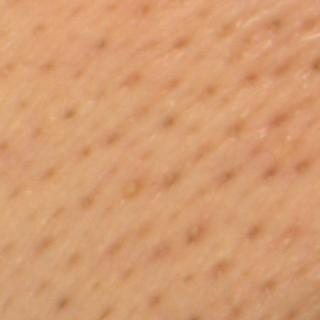Pores: (268, 107, 294, 135), (247, 138, 270, 162), (199, 80, 224, 102), (268, 59, 291, 82), (160, 169, 184, 191), (209, 256, 230, 281), (92, 83, 112, 108), (122, 69, 146, 89), (227, 45, 251, 65), (187, 222, 207, 246), (279, 223, 298, 248), (298, 15, 320, 36), (138, 143, 159, 165), (191, 144, 213, 165), (223, 121, 246, 141), (108, 236, 128, 259), (54, 292, 74, 315), (47, 203, 71, 222), (247, 221, 266, 245), (77, 192, 98, 213), (29, 17, 49, 39), (7, 183, 29, 203), (266, 16, 289, 35), (133, 2, 157, 20), (219, 18, 237, 42), (152, 240, 170, 264), (195, 3, 215, 24), (36, 235, 56, 256), (215, 165, 236, 185), (66, 249, 86, 270), (139, 35, 161, 54), (103, 128, 125, 147), (120, 181, 142, 200), (78, 142, 96, 165), (185, 119, 208, 137), (33, 278, 56, 296), (260, 164, 280, 184), (39, 56, 60, 75), (165, 73, 184, 94), (136, 219, 157, 238), (259, 277, 278, 298), (293, 153, 310, 176), (294, 261, 311, 284), (280, 303, 303, 320), (119, 264, 139, 283), (192, 183, 211, 203), (192, 48, 210, 69), (242, 68, 261, 87), (38, 166, 62, 181), (1, 58, 20, 76), (135, 101, 153, 120), (296, 93, 315, 111), (87, 276, 104, 296), (241, 31, 262, 47), (252, 96, 268, 117), (225, 304, 246, 320), (63, 28, 81, 46), (29, 124, 47, 142), (97, 302, 115, 320), (15, 95, 34, 112), (63, 105, 82, 122), (171, 35, 191, 51), (163, 111, 180, 129), (215, 96, 235, 111), (23, 211, 40, 228), (101, 2, 121, 16), (104, 162, 121, 178), (70, 66, 88, 81), (165, 208, 180, 226), (2, 243, 16, 262), (146, 291, 163, 306), (180, 273, 197, 288), (95, 35, 110, 51), (68, 3, 85, 17), (309, 54, 320, 74), (260, 308, 277, 320), (1, 137, 13, 152), (179, 312, 199, 320), (315, 193, 320, 212)
